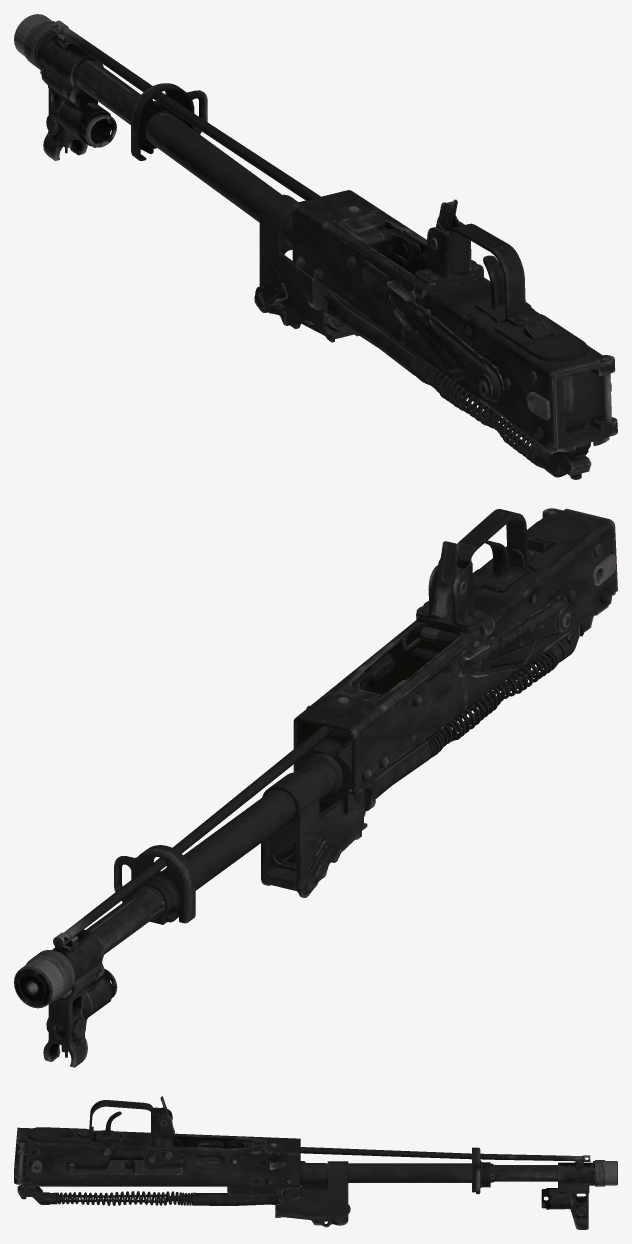
3 renders of one model, top to bottom at view 1: azimuth 30°, elevation 25°; view 2: azimuth 150°, elevation 25°; view 3: azimuth 270°, elevation 25°, orthographic. The views are drawn at different scales.
Parts seen in each view (by area): view 1: TW_5ac66d9b5acfc4001633997a_PZ_Import; view 2: TW_5ac66d9b5acfc4001633997a_PZ_Import; view 3: TW_5ac66d9b5acfc4001633997a_PZ_Import.
Part boxes in pixels (left/top/right/bottom): TW_5ac66d9b5acfc4001633997a_PZ_Import: left=14, top=14, right=617, bottom=479; TW_5ac66d9b5acfc4001633997a_PZ_Import: left=14, top=508, right=617, bottom=1067; TW_5ac66d9b5acfc4001633997a_PZ_Import: left=14, top=1096, right=617, bottom=1229.
Size of the model in its own units: 0.0285 by 0.3124 by 0.0735.
1 material, 1 textured.
